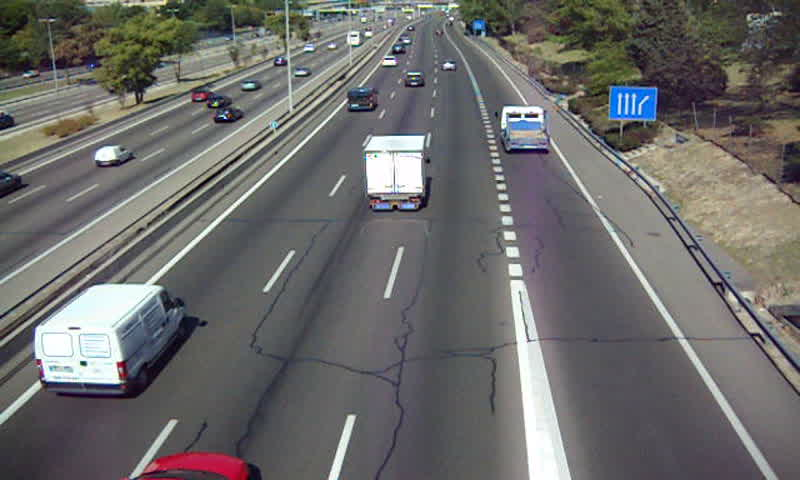car: (402, 71, 426, 90), (380, 54, 397, 70), (441, 59, 458, 72)
small-truck: (366, 136, 428, 212), (499, 105, 550, 151)
van: (36, 286, 184, 398), (346, 87, 377, 113)
